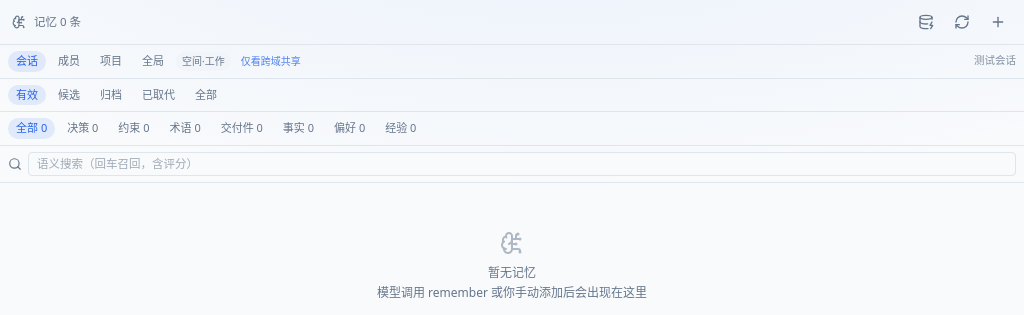
it: P2：跨空间记忆审计视图 › 「仅看跨域共享」→ 请求带 spaceId=shared；「返回当前空间」→ 恢复当前空间
expect the text "空间·工作" is shown: met, box [176,52,231,71]
Note: 跨空间审计：仅跨域共享
Step 1. Click the button "仅看跨域共享" → (271, 61), box [235,52,307,71]
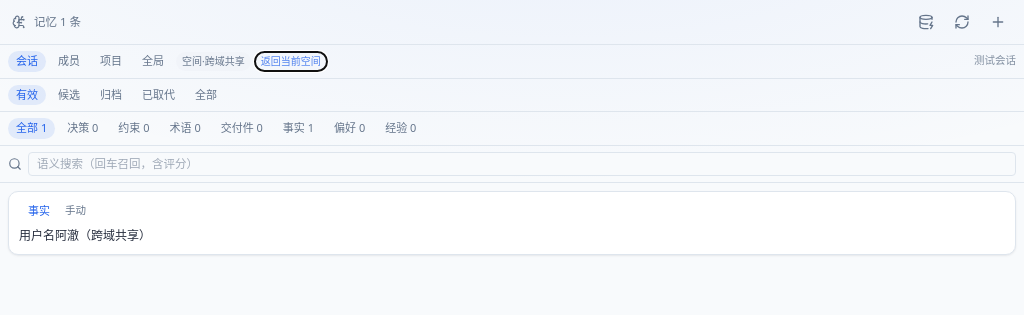
expect the text "用户名阿澈（跨域共享）" is shown: met, box [19,227,151,244]
expect the text "空间·跨域共享" is shown: met, box [176,52,251,71]
Step 2. Click the button "返回当前空间" → (291, 61), box [255,52,327,71]
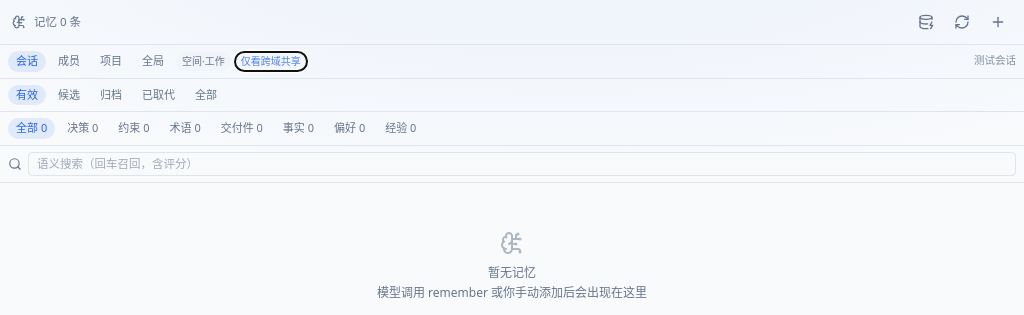
expect the text "空间·工作" is shown: met, box [176,52,231,71]
